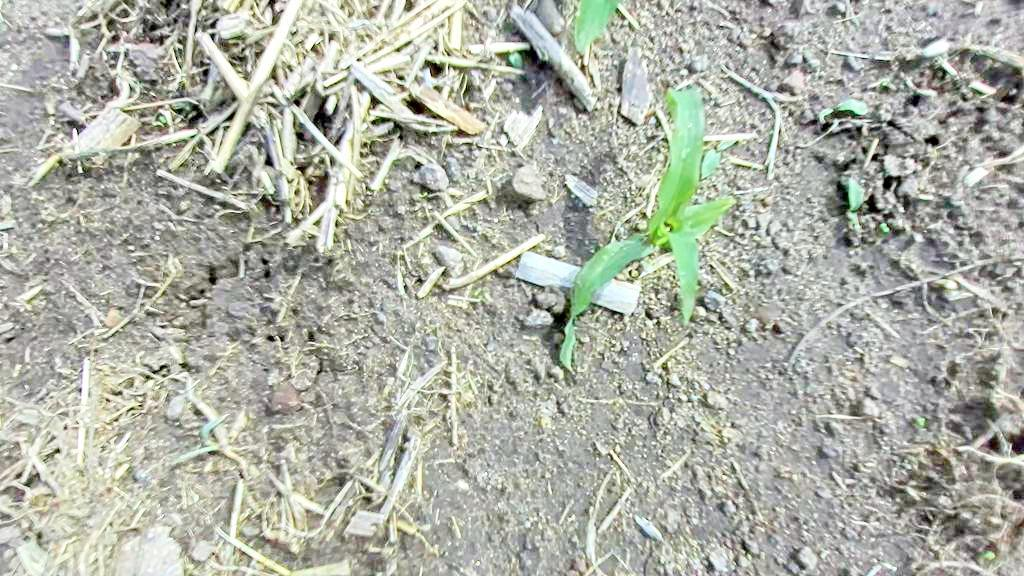BroWeed: (692, 129, 737, 184), (194, 406, 230, 450), (816, 96, 869, 124), (631, 509, 667, 547), (634, 248, 676, 278), (427, 183, 467, 212), (846, 177, 865, 232), (690, 410, 722, 440), (402, 178, 431, 207), (699, 425, 724, 451), (458, 384, 479, 404), (636, 1, 652, 27), (506, 48, 524, 70), (738, 545, 754, 562), (882, 77, 900, 92), (172, 102, 193, 111), (983, 550, 997, 562), (879, 221, 891, 234), (473, 286, 483, 298), (522, 335, 537, 341), (158, 115, 168, 123), (916, 417, 926, 425)
Maize: (541, 72, 772, 407)
